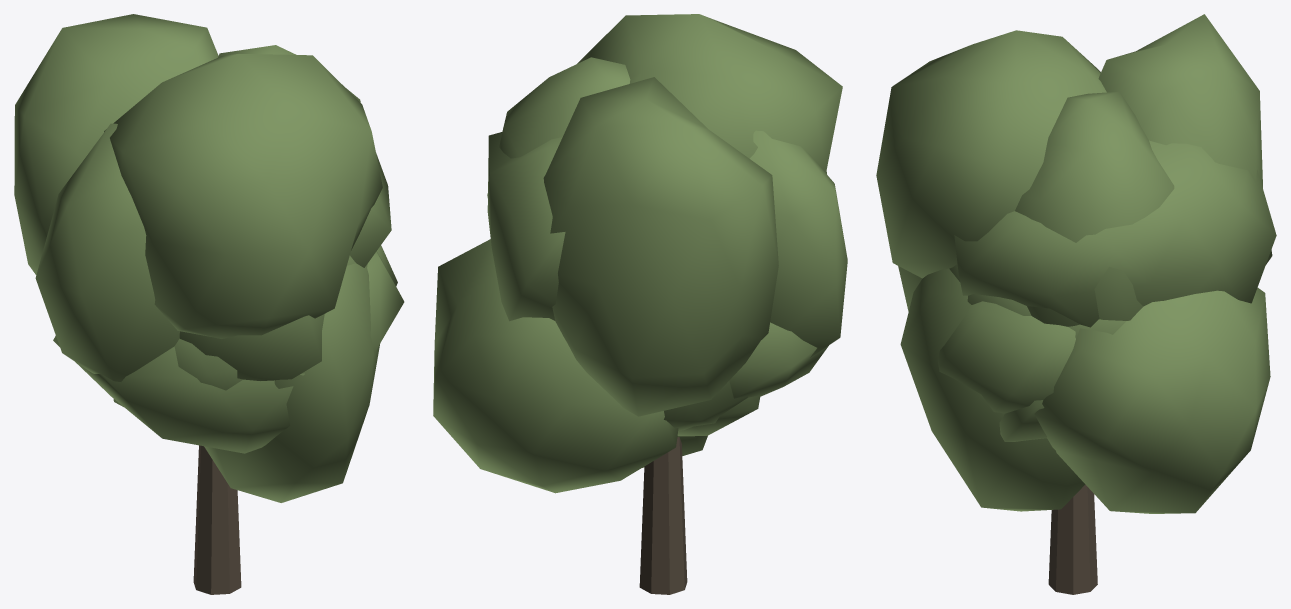
File: broadleaf.glb
The picture shows the model from 3 angles, left to right: view 1: azimuth 30°, elevation 25°; view 2: azimuth 150°, elevation 25°; view 3: azimuth 270°, elevation 25°; orthographic projection.
Visible parts, largest first — view 1: Cone; view 2: Cone; view 3: Cone.
Part boxes in pixels (bbox=[...]): Cone: bbox=[14, 14, 404, 594]; Cone: bbox=[433, 14, 847, 594]; Cone: bbox=[876, 14, 1276, 594].
Size of the model in its own units: 2.62 by 3.7 by 2.44.
